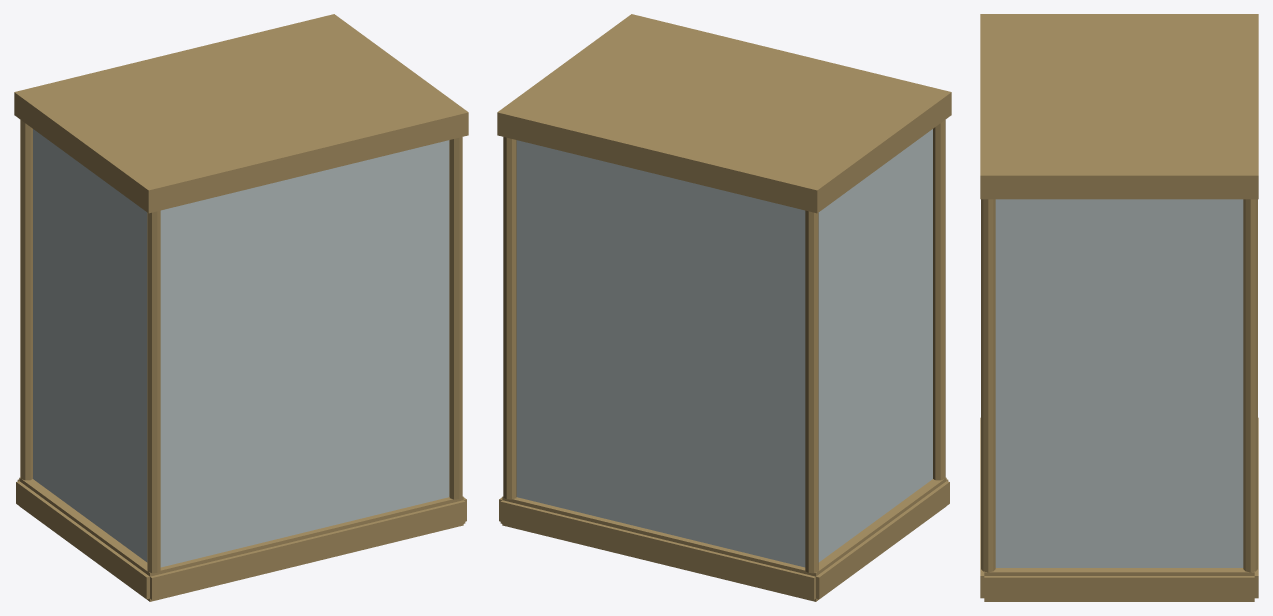
The model's file is display-case.glb.
3 views of the same model, side by side, from view 1: azimuth 30°, elevation 25°; view 2: azimuth 150°, elevation 25°; view 3: azimuth 270°, elevation 25° (orthographic). The views are drawn at different scales.
Visible parts, largest first — view 1: DisplayCase_Glass, DisplayCase_Top, DisplayCase_Base, DisplayCase_Post, DisplayCase_Post.002, DisplayCase_Post.001; view 2: DisplayCase_Glass, DisplayCase_Top, DisplayCase_Base, DisplayCase_Post.001, DisplayCase_Post.003, DisplayCase_Post; view 3: DisplayCase_Glass, DisplayCase_Top, DisplayCase_Base, DisplayCase_Post.002, DisplayCase_Post.003.
Boxes of the visible parts, x1,y1,x2,y2 form: DisplayCase_Glass: [33, 129, 449, 567]; DisplayCase_Top: [14, 14, 468, 213]; DisplayCase_Base: [16, 477, 466, 601]; DisplayCase_Post: [147, 210, 160, 573]; DisplayCase_Post.002: [449, 137, 462, 499]; DisplayCase_Post.001: [20, 120, 32, 480]; DisplayCase_Glass: [516, 129, 932, 567]; DisplayCase_Top: [497, 14, 951, 213]; DisplayCase_Base: [499, 477, 949, 601]; DisplayCase_Post.001: [805, 210, 818, 573]; DisplayCase_Post.003: [503, 137, 516, 499]; DisplayCase_Post: [933, 120, 945, 480]; DisplayCase_Glass: [995, 199, 1243, 567]; DisplayCase_Top: [980, 14, 1258, 199]; DisplayCase_Base: [980, 417, 1258, 601]; DisplayCase_Post.002: [981, 199, 995, 572]; DisplayCase_Post.003: [1243, 199, 1257, 572].
Size of the model in its own units: 1.17 by 1.44 by 0.848.
